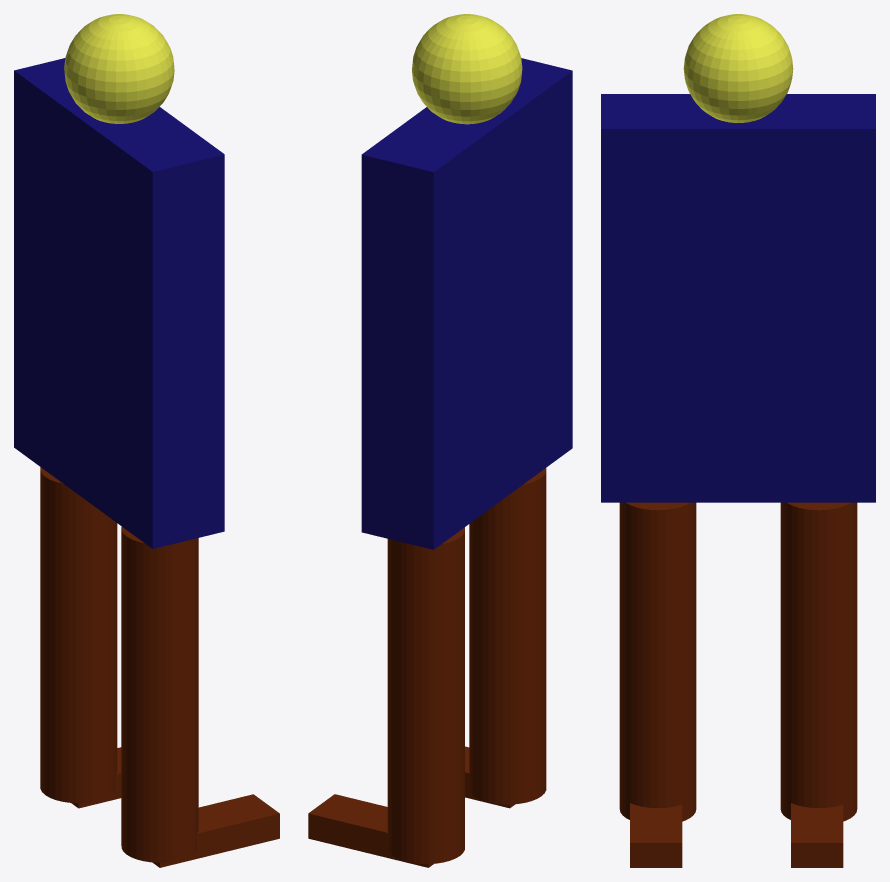
Rendered from player.glb.
The picture shows the model from 3 angles, left to right: view 1: azimuth 30°, elevation 25°; view 2: azimuth 150°, elevation 25°; view 3: azimuth 270°, elevation 25°; orthographic projection.
Visible parts, largest first — view 1: Body, RightLeg, LeftLeg, Head; view 2: Body, LeftLeg, RightLeg, Head; view 3: Body, RightLeg, LeftLeg, Head.
Part boxes in pixels (bbox=[...]): Body: bbox=[14, 58, 224, 548]; RightLeg: bbox=[121, 526, 279, 867]; LeftLeg: bbox=[40, 467, 121, 808]; Head: bbox=[64, 14, 174, 123]; Body: bbox=[361, 58, 572, 549]; LeftLeg: bbox=[308, 527, 464, 867]; RightLeg: bbox=[465, 468, 546, 808]; Head: bbox=[412, 14, 522, 124]; Body: bbox=[601, 94, 875, 502]; RightLeg: bbox=[619, 502, 696, 867]; LeftLeg: bbox=[780, 502, 857, 867]; Head: bbox=[683, 14, 793, 122].
Bounding box in the file's own units: 0.2558 × 1.28 × 0.4.
